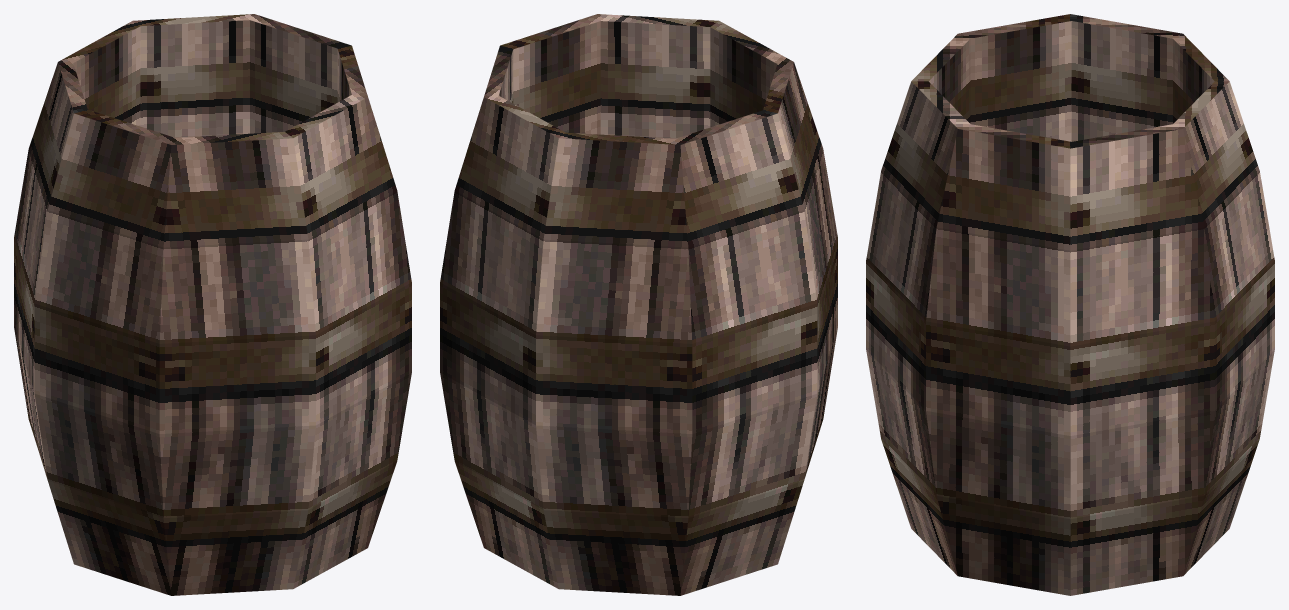
The model's file is PawBarrel.fbx.
3 renders of one model, left to right at view 1: azimuth 30°, elevation 25°; view 2: azimuth 150°, elevation 25°; view 3: azimuth 270°, elevation 25°, orthographic.
Visible parts, largest first — view 1: PAWBARREL; view 2: PAWBARREL; view 3: PAWBARREL.
Part boxes in pixels (left/top/right/bottom): PAWBARREL: left=14, top=14, right=411, bottom=595; PAWBARREL: left=440, top=14, right=837, bottom=595; PAWBARREL: left=866, top=14, right=1274, bottom=595.
Bounding box in the file's own units: 4.5 × 5.43 × 4.5.
